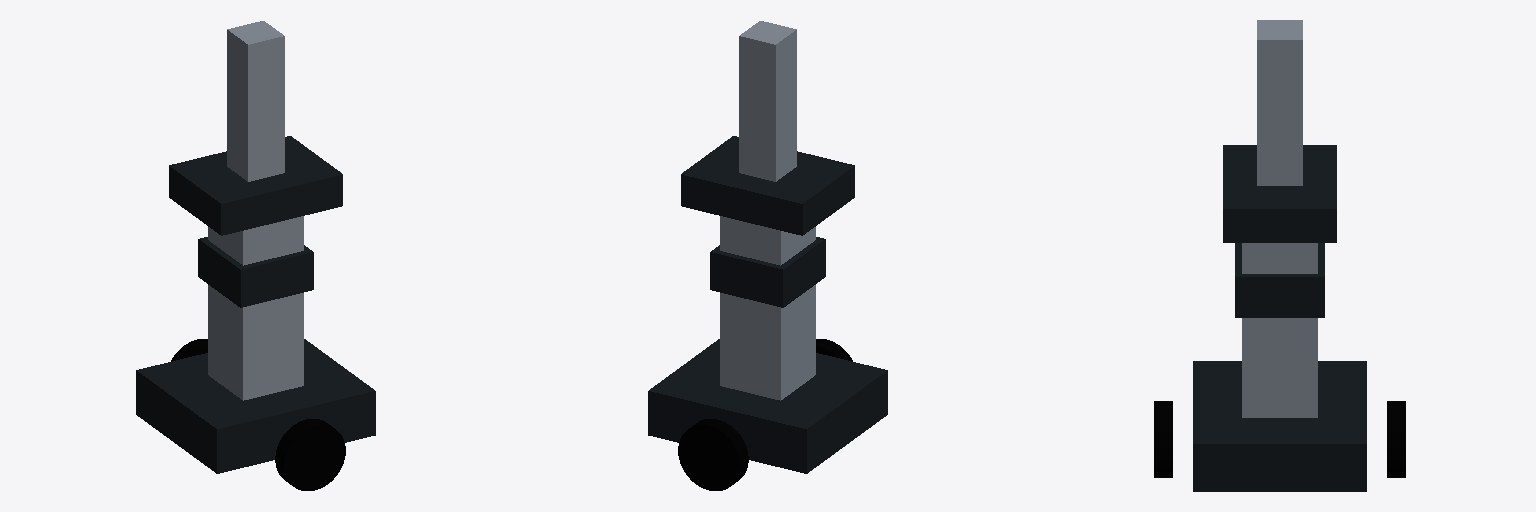
URDF robot description (recomoProto2-two-wheel-riser):
<?xml version='1.0' encoding='utf-8'?>
<robot name="recomoProto2-two-wheel-riser">
  <material name="chassis_dark">
    <color rgba="0.12 0.14 0.16 1.0" />
  </material>
  <material name="tower_gray">
    <color rgba="0.55 0.58 0.62 1.0" />
  </material>
  <material name="wheel_black">
    <color rgba="0.025 0.025 0.025 1.0" />
  </material>
  <material name="sensor_blue">
    <color rgba="0.08 0.28 0.55 1.0" />
  </material>
  <link name="base_link">
    <inertial>
      <origin rpy="0 0 0" xyz="0.0 0.0 0.4" />
      <mass value="19.155000000" />
      <inertia ixx="1.174772564" ixy="0.000000000" ixz="0.000000000" iyy="1.236078373" iyz="0.000000000" izz="0.531827892" />
    </inertial>
    <visual name="lower_chassis_visual">
      <origin rpy="0 0 0" xyz="0 0 0.140" />
      <geometry>
        <box size="0.520 0.460 0.140" />
      </geometry>
      <material name="chassis_dark" />
    </visual>
    <collision name="lower_chassis_collision">
      <origin rpy="0 0 0" xyz="0 0 0.140" />
      <geometry>
        <box size="0.520 0.460 0.140" />
      </geometry>
    </collision>
    <visual name="tower_visual">
      <origin rpy="0 0 0" xyz="0 0 0.480" />
      <geometry>
        <box size="0.200 0.200 0.620" />
      </geometry>
      <material name="tower_gray" />
    </visual>
    <collision name="tower_collision">
      <origin rpy="0 0 0" xyz="0 0 0.480" />
      <geometry>
        <box size="0.200 0.200 0.620" />
      </geometry>
    </collision>
    <visual name="sensor_head_visual">
      <origin rpy="0 0 0" xyz="0 0 0.820" />
      <geometry>
        <box size="0.400 0.300 0.100" />
      </geometry>
      <material name="chassis_dark" />
    </visual>
    <collision name="sensor_head_collision">
      <origin rpy="0 0 0" xyz="0 0 0.820" />
      <geometry>
        <box size="0.400 0.300 0.100" />
      </geometry>
    </collision>
  </link>
  <link name="left_wheel_link">
    <inertial>
      <origin rpy="0 0 0" xyz="0 0 0" />
      <mass value="1.5" />
      <inertia ixx="0.004183459999999999" ixy="0" ixz="0" iyy="0.0077419199999999985" iyz="0" izz="0.004183459999999999" />
    </inertial>
    <visual>
      <origin rpy="1.5707963267948966 0 0" xyz="0 0 0" />
      <geometry>
        <cylinder length="0.05" radius="0.1016" />
      </geometry>
      <material name="wheel_black" />
    </visual>
    <collision>
      <origin rpy="1.5707963267948966 0 0" xyz="0 0 0" />
      <geometry>
        <cylinder length="0.05" radius="0.1016" />
      </geometry>
    </collision>
  </link>
  <joint name="left_wheel_joint" type="continuous">
    <origin rpy="0 0 0" xyz="0 0.31 0.1016" />
    <parent link="base_link" />
    <child link="left_wheel_link" />
    <axis xyz="0 1 0" />
    <limit effort="20.0" velocity="20.0" />
    <dynamics damping="0.0" friction="0.0" />
  </joint>
  <link name="right_wheel_link">
    <inertial>
      <origin rpy="0 0 0" xyz="0 0 0" />
      <mass value="1.5" />
      <inertia ixx="0.004183459999999999" ixy="0" ixz="0" iyy="0.0077419199999999985" iyz="0" izz="0.004183459999999999" />
    </inertial>
    <visual>
      <origin rpy="1.5707963267948966 0 0" xyz="0 0 0" />
      <geometry>
        <cylinder length="0.05" radius="0.1016" />
      </geometry>
      <material name="wheel_black" />
    </visual>
    <collision>
      <origin rpy="1.5707963267948966 0 0" xyz="0 0 0" />
      <geometry>
        <cylinder length="0.05" radius="0.1016" />
      </geometry>
    </collision>
  </link>
  <joint name="right_wheel_joint" type="continuous">
    <origin rpy="0 0 0" xyz="0 -0.31 0.1016" />
    <parent link="base_link" />
    <child link="right_wheel_link" />
    <axis xyz="0 1 0" />
    <limit effort="20.0" velocity="20.0" />
    <dynamics damping="0.0" friction="0.0" />
  </joint>
  <link name="imu_link">
    <inertial>
      <origin rpy="0 0 0" xyz="0 0 0" />
      <mass value="0.001" />
      <inertia ixx="1e-06" ixy="0" ixz="0" iyy="1e-06" iyz="0" izz="1e-06" />
    </inertial>
    <visual>
      <geometry>
        <box size="0.050 0.040 0.015" />
      </geometry>
      <material name="sensor_blue" />
    </visual>
  </link>
  <joint name="imu_joint" type="fixed">
    <parent link="base_link" />
    <child link="imu_link" />
    <origin rpy="0 0 0" xyz="0 0 0.110" />
  </joint>
  <link name="laser_link">
    <inertial>
      <origin rpy="0 0 0" xyz="0 0 0" />
      <mass value="0.001" />
      <inertia ixx="1e-06" ixy="0" ixz="0" iyy="1e-06" iyz="0" izz="1e-06" />
    </inertial>
    <visual>
      <geometry>
        <cylinder length="0.060" radius="0.055" />
      </geometry>
      <material name="sensor_blue" />
    </visual>
  </link>
  <joint name="laser_joint" type="fixed">
    <parent link="base_link" />
    <child link="laser_link" />
    <origin rpy="0 0 0" xyz="0 0 0.900" />
  </joint>
  <link name="upper_imu_link">
    <inertial>
      <origin rpy="0 0 0" xyz="0 0 0" />
      <mass value="0.001" />
      <inertia ixx="1e-06" ixy="0" ixz="0" iyy="1e-06" iyz="0" izz="1e-06" />
    </inertial>
  </link>
  <joint name="upper_imu_joint" type="fixed">
    <parent link="laser_link" />
    <child link="upper_imu_link" />
    <origin rpy="0 0 0" xyz="0 0 0" />
  </joint>
  <link name="riser_guide_link">
    <inertial>
      <origin xyz="0 0 0" rpy="0 0 0" />
      <mass value="1.500000000" />
      <inertia ixx="0.081800000" ixy="0" ixz="0" iyy="0.081800000" iyz="0" izz="0.003600000" />
    </inertial>
    <visual>
      <geometry>
        <box size="0.12 0.12 0.8" />
      </geometry>
      <material name="tower_gray" />
    </visual>
    <collision>
      <geometry>
        <box size="0.12 0.12 0.8" />
      </geometry>
    </collision>
  </link>
  <joint name="riser_guide_joint" type="fixed">
    <origin xyz="0 0 0.9" rpy="0 0 0" />
    <parent link="base_link" />
    <child link="riser_guide_link" />
  </joint>
  <link name="riser_carriage_link">
    <inertial>
      <origin xyz="0 0 0" rpy="0 0 0" />
      <mass value="1.500000000" />
      <inertia ixx="0.009000000" ixy="0" ixz="0" iyy="0.009000000" iyz="0" izz="0.014400000" />
    </inertial>
    <visual>
      <geometry>
        <box size="0.24 0.24 0.12" />
      </geometry>
      <material name="chassis_dark" />
    </visual>
    <collision>
      <geometry>
        <box size="0.24 0.24 0.12" />
      </geometry>
    </collision>
  </link>
  <joint name="riser_joint" type="prismatic">
    <origin xyz="0 0 0.573530566" rpy="0 0 0" />
    <parent link="base_link" />
    <child link="riser_carriage_link" />
    <axis xyz="0 0 1" />
    <limit lower="0.0" upper="1.2" effort="300.0" velocity="1.0" />
    <dynamics damping="2.0" friction="1.0" />
  </joint>
  <link name="arm_link_4">
    <inertial>
      <origin xyz="-0.070164 2.4195E-16 0.042022" rpy="0 0 0" />
      <mass value="0.45" />
      <inertia ixx="0.00013075" ixy="1.5223E-18" ixz="0.00017126" iyy="0.00044213" iyz="-9.537E-19" izz="0.00034462" />
    </inertial>
    <visual>
      <origin xyz="0 0 0" rpy="0 0 0" />
      <geometry>
        <mesh filename="../meshes/recomoProto2-190/arm_link_4.STL" scale="0.001 0.001 0.001" />
      </geometry>
      <material name="">
        <color rgba="1 1 1 1" />
      </material>
    </visual>
    <collision>
      <origin xyz="0 0 0" rpy="0 0 0" />
      <geometry>
        <mesh filename="../meshes/recomoProto2-190/arm_link_4.STL" scale="0.001 0.001 0.001" />
      </geometry>
    </collision>
  </link>
  <link name="arm_link_5">
    <inertial>
      <origin xyz="-0.0017203 -0.063107 0.072647" rpy="0 0 0" />
      <mass value="0.45" />
      <inertia ixx="0.0006156" ixy="-6.2991E-06" ixz="1.0648E-05" iyy="0.0004255" iyz="0.00023199" izz="0.00022502" />
    </inertial>
    <visual>
      <origin xyz="0 0 0" rpy="0 0 0" />
      <geometry>
        <mesh filename="../meshes/recomoProto2-190/arm_link_5.STL" scale="0.001 0.001 0.001" />
      </geometry>
      <material name="">
        <color rgba="0.79216 0.81961 0.93333 1" />
      </material>
    </visual>
    <collision>
      <origin xyz="0 0 0" rpy="0 0 0" />
      <geometry>
        <mesh filename="../meshes/recomoProto2-190/arm_link_5.STL" scale="0.001 0.001 0.001" />
      </geometry>
    </collision>
  </link>
  <link name="arm_link_6">
    <inertial>
      <origin xyz="-0.0050729 0.033014 0.045516" rpy="0 0 0" />
      <mass value="0.24" />
      <inertia ixx="0.0002457" ixy="9.9849E-06" ixz="1.7169E-05" iyy="0.0001741" iyz="-7.7172E-05" izz="0.0001101" />
    </inertial>
    <visual>
      <origin xyz="0 0 0" rpy="0 0 0" />
      <geometry>
        <mesh filename="../meshes/recomoProto2-190/arm_link_6.STL" scale="0.001 0.001 0.001" />
      </geometry>
      <material name="">
        <color rgba="0.79216 0.81961 0.93333 1" />
      </material>
    </visual>
    <collision>
      <origin xyz="0 0 0" rpy="0 0 0" />
      <geometry>
        <mesh filename="../meshes/recomoProto2-190/arm_link_6.STL" scale="0.001 0.001 0.001" />
      </geometry>
    </collision>
  </link>
  <link name="cam_link">
    <inertial>
      <origin xyz="-0.0092646 -4.9407E-05 0.0061835" rpy="0 0 0" />
      <mass value="1.7" />
      <inertia ixx="0.0003447" ixy="-6.5753E-06" ixz="2.4463E-05" iyy="0.00056714" iyz="1.3806E-06" izz="0.00070106" />
    </inertial>
    <visual>
      <origin xyz="0 0 0" rpy="0 0 0" />
      <geometry>
        <mesh filename="../meshes/recomoProto2-190/cam_link.STL" scale="0.001 0.001 0.001" />
      </geometry>
      <material name="">
        <color rgba="0.79216 0.81961 0.93333 1" />
      </material>
    </visual>
    <collision>
      <origin xyz="0 0 0" rpy="0 0 0" />
      <geometry>
        <mesh filename="../meshes/recomoProto2-190/cam_link.STL" scale="0.001 0.001 0.001" />
      </geometry>
    </collision>
  </link>
  <link name="ee_tool">
    <inertial>
      <origin xyz="0 0 0" rpy="0 0 0" />
      <mass value="0.001" />
      <inertia ixx="2.3333E-07" ixy="0" ixz="0" iyy="2.3333E-07" iyz="0" izz="5.0E-08" />
    </inertial>
    <visual>
      <origin xyz="0 0 0" rpy="0 0 0" />
      <geometry>
        <box size="0.02 0.02 0.02" />
      </geometry>
      <material name="ee_tool_red">
        <color rgba="1 0 0 1" />
      </material>
    </visual>
    <collision>
      <origin xyz="0 0 0" rpy="0 0 0" />
      <geometry>
        <box size="0.02 0.02 0.02" />
      </geometry>
    </collision>
  </link>
  <joint name="joint3_gimbal_yaw" type="revolute">
    <origin xyz="-0.071543364669 0.131332738755 0.034914221454" rpy="-1.750353420000 1.408789120000 -2.995696870000" />
    <parent link="riser_carriage_link" />
    <child link="arm_link_4" />
    <axis xyz="0 0 1" />
    <limit lower="-1.954768762234" upper="3.735004599268" effort="10.0" velocity="6.283185307180" />
  </joint>
  <joint name="joint2_gimbal_roll" type="revolute">
    <origin xyz="-0.099888 0 0.077538" rpy="0 0.94248 0" />
    <parent link="arm_link_4" />
    <child link="arm_link_5" />
    <axis xyz="0.000000000000 1.000000000000 0.000000000000" />
    <limit lower="-1.658062789395" upper="4.188790204786" effort="10.0" velocity="6.283185307180" />
  </joint>
  <joint name="joint1_gimbal_pitch" type="continuous">
    <origin xyz="-0.0031465 -0.075 0.12575" rpy="-1.5708 -0.94248 0" />
    <parent link="arm_link_5" />
    <child link="arm_link_6" />
    <axis xyz="1.000000000000 0.000000000000 -0.000000000000" />
    <limit effort="10.0" velocity="6.283185307180" />
  </joint>
  <joint name="camera_optical_center" type="fixed">
    <origin xyz="0 0.0065609 0.10147" rpy="3.141592653573 -1.570792653590 -1.570796326778" />
    <parent link="arm_link_6" />
    <child link="cam_link" />
  </joint>
  <joint name="ee_tool_fixed" type="fixed">
    <origin xyz="0 0 0" rpy="0 0 0" />
    <parent link="cam_link" />
    <child link="ee_tool" />
  </joint>
  <link name="ee1_tool">
    <inertial>
      <origin xyz="0 0 0" rpy="0 0 0" />
      <mass value="0.001000000" />
      <inertia ixx="0.000000017" ixy="0" ixz="0" iyy="0.000000017" iyz="0" izz="0.000000017" />
    </inertial>
    <visual>
      <geometry>
        <sphere radius="0.015" />
      </geometry>
      <material name="semantic_green">
        <color rgba="0.1 0.9 0.2 1" />
      </material>
    </visual>
  </link>
  <joint name="semantic_dfr_from_cam_fixed" type="fixed">
    <origin xyz="0 0 0" rpy="0 0 -1.570796326795" />
    <parent link="cam_link" />
    <child link="ee1_tool" />
  </joint>
</robot>

--- What the picture shows (computed from the rendered views, not written in the file) ---
Views: 3 orthographic renders of the robot side by side, from view 1: azimuth 30°, elevation 25°; view 2: azimuth 150°, elevation 25°; view 3: azimuth 270°, elevation 25°.
Robot: recomoProto2-two-wheel-riser — 14 links, 13 joints (2 revolute, 3 continuous, 1 prismatic, 7 fixed); root link base_link; default pose: every joint at zero.
Visible links, largest first — view 1: base_link, riser_guide_link, riser_carriage_link, right_wheel_link; view 2: base_link, riser_guide_link, riser_carriage_link, left_wheel_link; view 3: base_link, riser_guide_link, riser_carriage_link, left_wheel_link, right_wheel_link.
Boxes of the visible links, x1,y1,x2,y2 form: base_link: (136,136,375,473); riser_guide_link: (227,21,284,181); riser_carriage_link: (198,237,313,307); right_wheel_link: (275,419,345,490); base_link: (648,136,887,473); riser_guide_link: (739,21,796,181); riser_carriage_link: (710,237,825,307); left_wheel_link: (678,419,748,490); base_link: (1193,145,1366,491); riser_guide_link: (1257,20,1302,185); riser_carriage_link: (1235,243,1324,317); left_wheel_link: (1387,401,1405,477); right_wheel_link: (1154,401,1172,477).
Bounding box of the posed robot: 0.52 × 0.67 × 1.3 m (x, y, z).
4 mesh visuals loaded from 4 distinct referenced files (4 binary STL).
